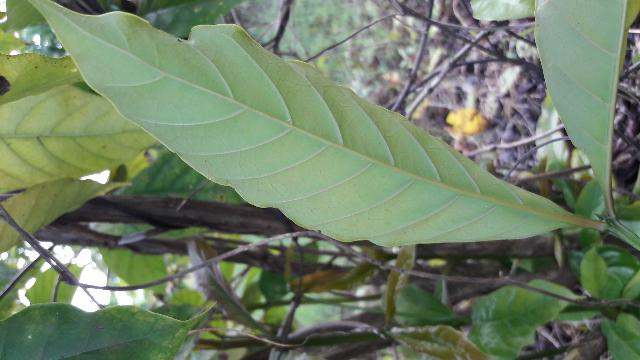healthy: (28, 1, 569, 251)
